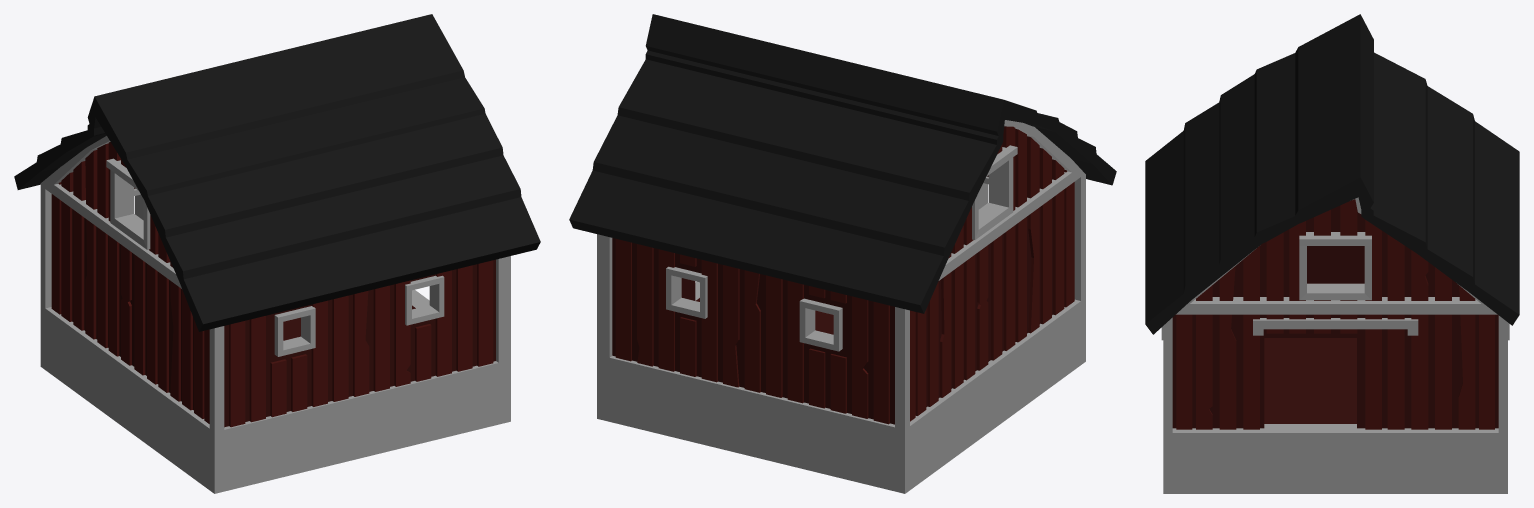
File: Small_Barn.FBX
3 renders of one model, left to right at view 1: azimuth 30°, elevation 25°; view 2: azimuth 150°, elevation 25°; view 3: azimuth 270°, elevation 25°, orthographic. The views are drawn at different scales.
Parts seen in each view (by area): view 1: Small_Barn; view 2: Small_Barn; view 3: Small_Barn.
Boxes of the visible parts, x1,y1,x2,y2 form: Small_Barn: [14, 14, 540, 493]; Small_Barn: [569, 14, 1116, 493]; Small_Barn: [1145, 14, 1519, 493].
Bounding box in the file's own units: 627 × 585 × 608.
